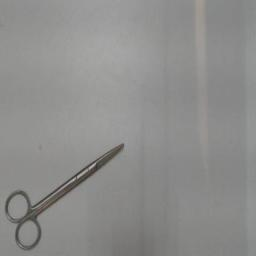Curved Mayo Scissors: (2, 139, 128, 253)
